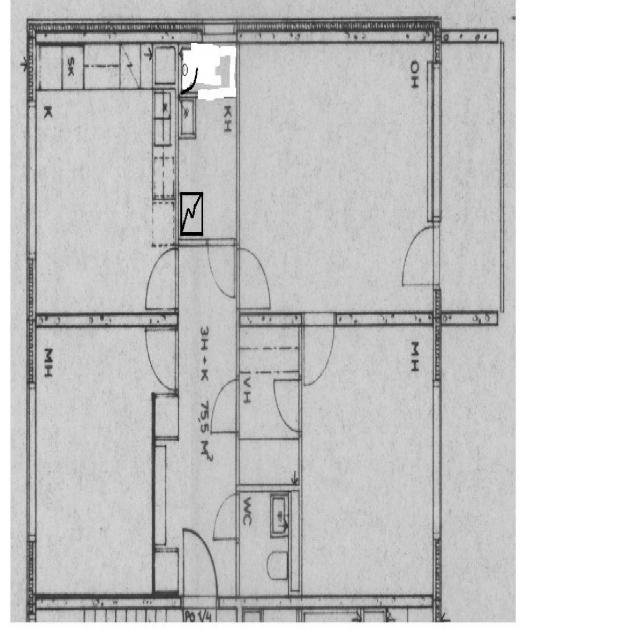door: (393, 214, 447, 296), (178, 524, 218, 624), (292, 309, 338, 391), (230, 239, 275, 315), (138, 239, 180, 319), (205, 236, 252, 305), (142, 321, 182, 397), (270, 370, 304, 441), (208, 373, 242, 441), (212, 486, 240, 550)
window: (22, 71, 42, 282), (425, 44, 448, 226), (23, 376, 40, 542), (195, 14, 237, 47), (83, 18, 124, 50)
zone: (237, 30, 436, 318), (28, 39, 177, 324), (298, 319, 440, 608), (31, 316, 159, 608), (177, 36, 238, 242), (240, 329, 301, 478), (236, 487, 296, 612), (140, 239, 180, 320), (266, 370, 304, 443)
